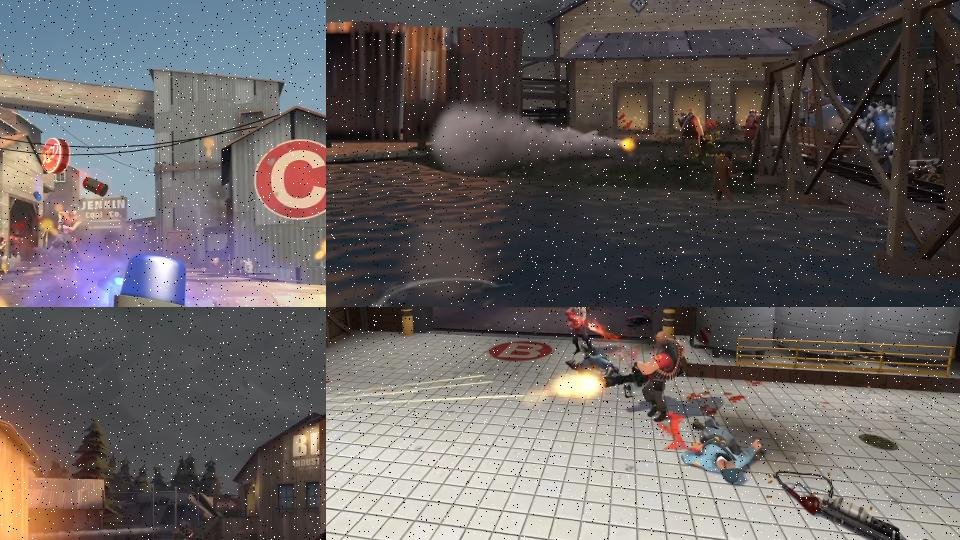Enemy: (601, 331, 692, 423), (679, 414, 764, 488), (856, 103, 895, 176), (713, 151, 755, 204), (679, 108, 716, 165), (562, 307, 599, 354), (54, 204, 82, 256), (741, 108, 760, 152), (178, 525, 195, 540), (0, 232, 6, 269)
